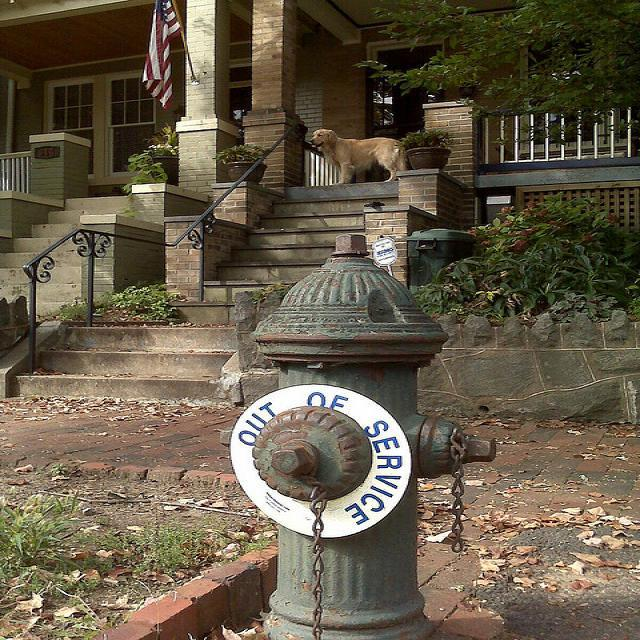fire_hydrant: (223, 231, 502, 628)
